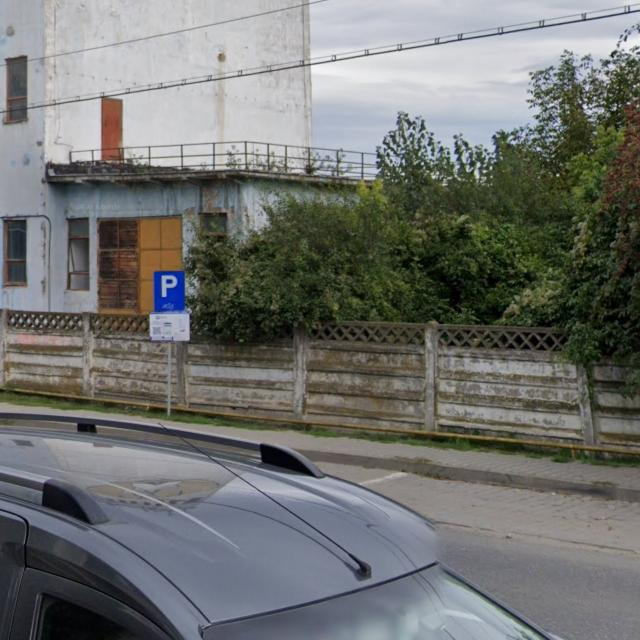info_parking: (152, 268, 185, 312)
